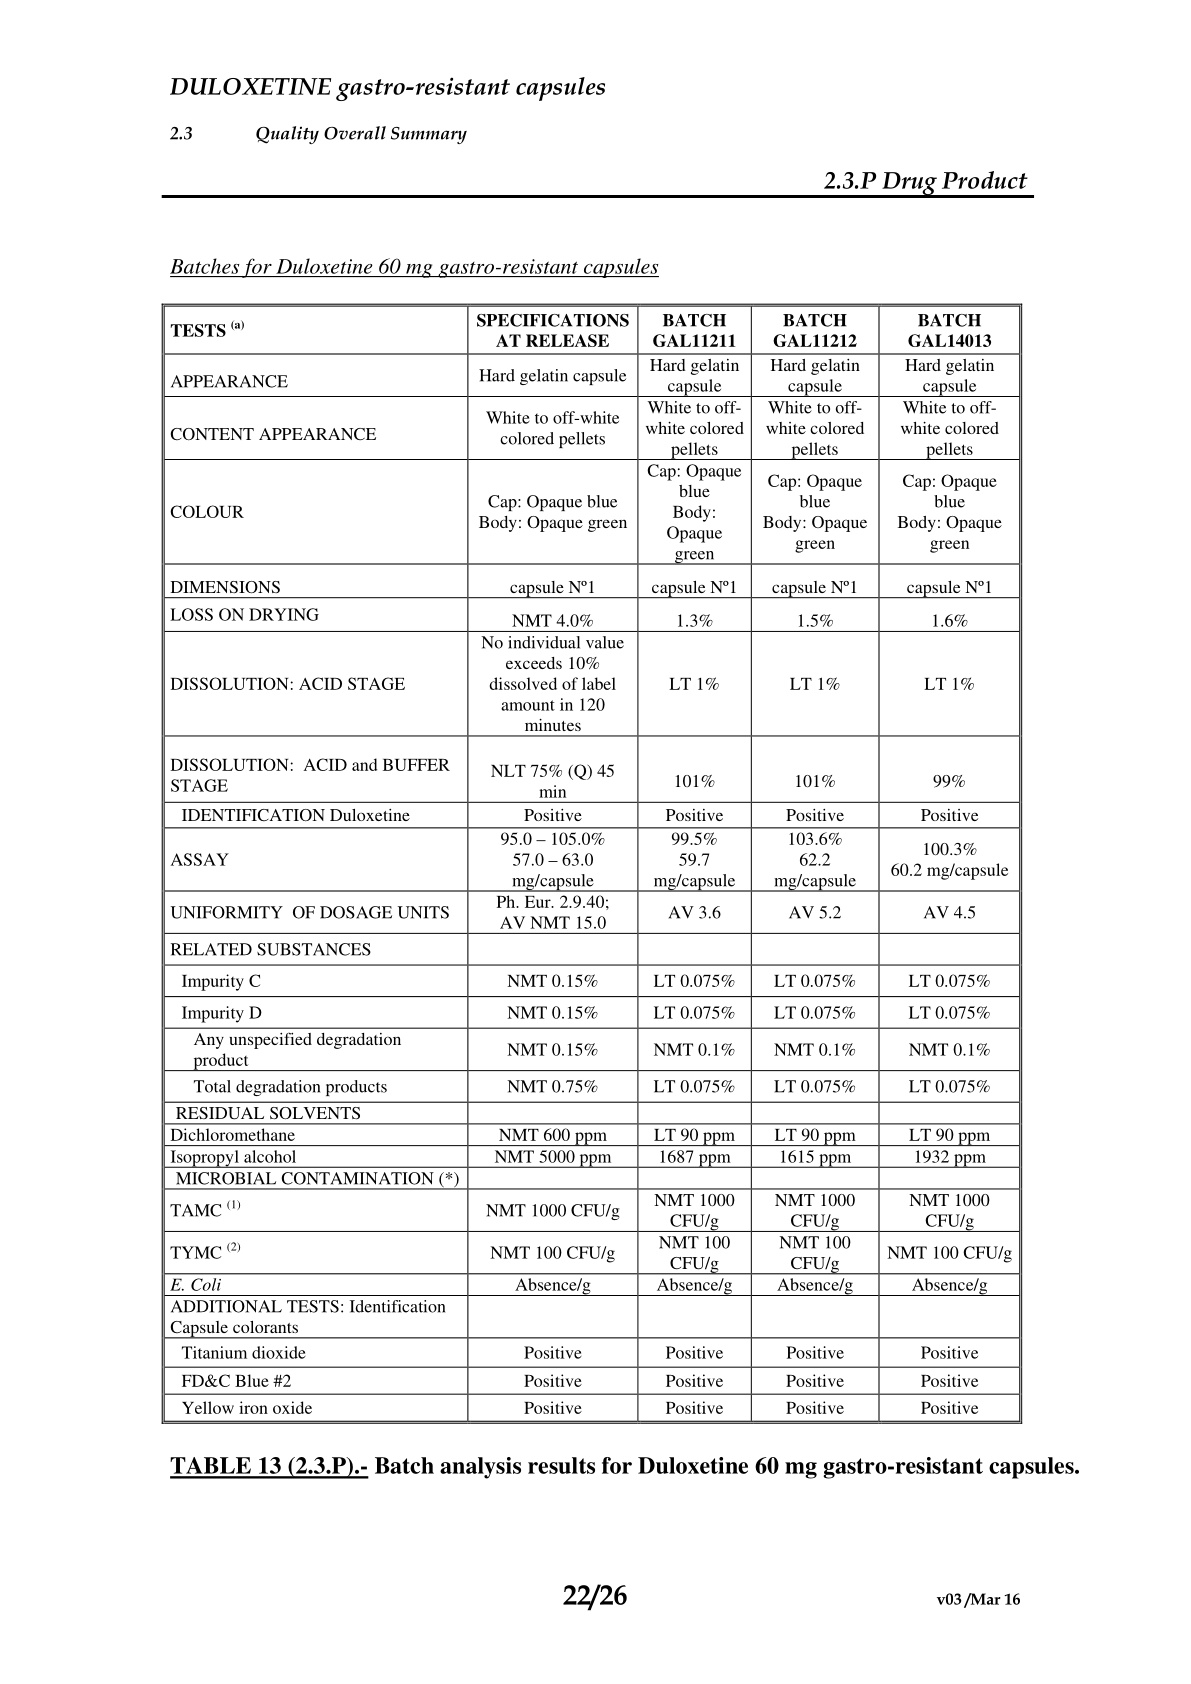full_lined: (160, 301, 1023, 1425)
